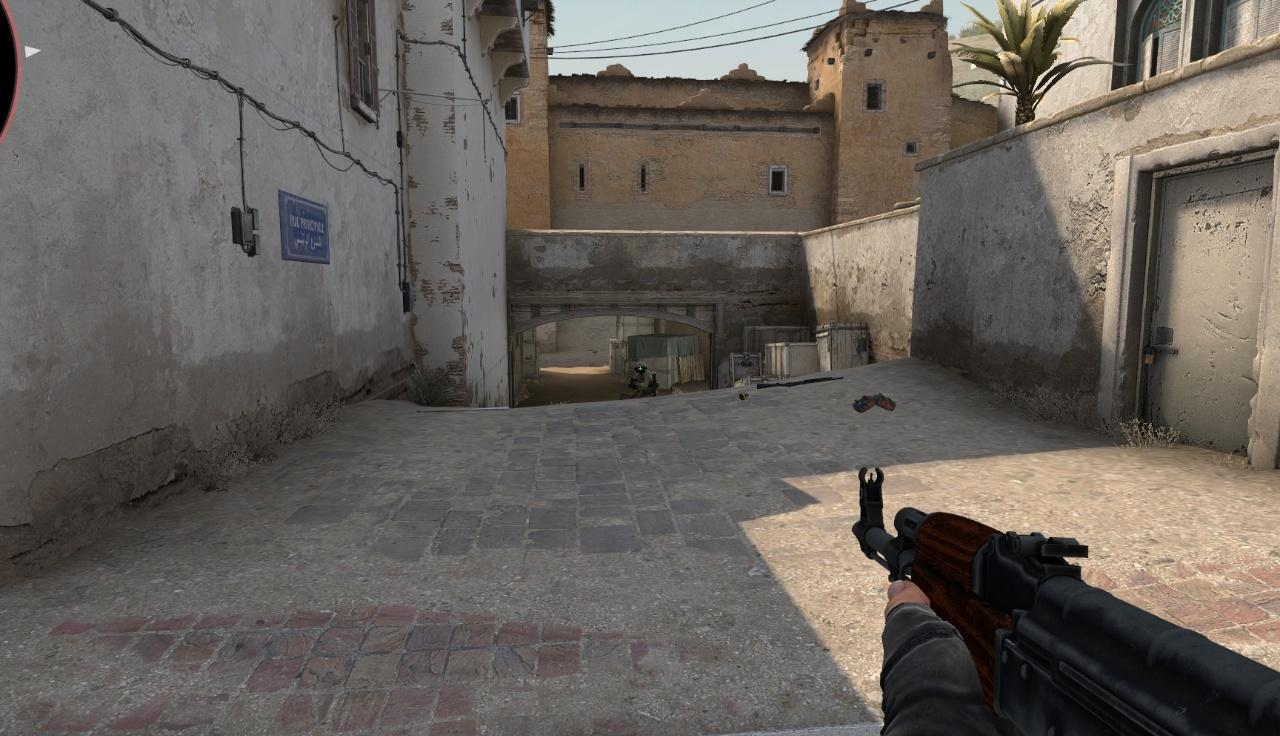ct: (631, 362, 656, 396)
cthead: (635, 363, 647, 374)
rifle: (847, 466, 1280, 736)
